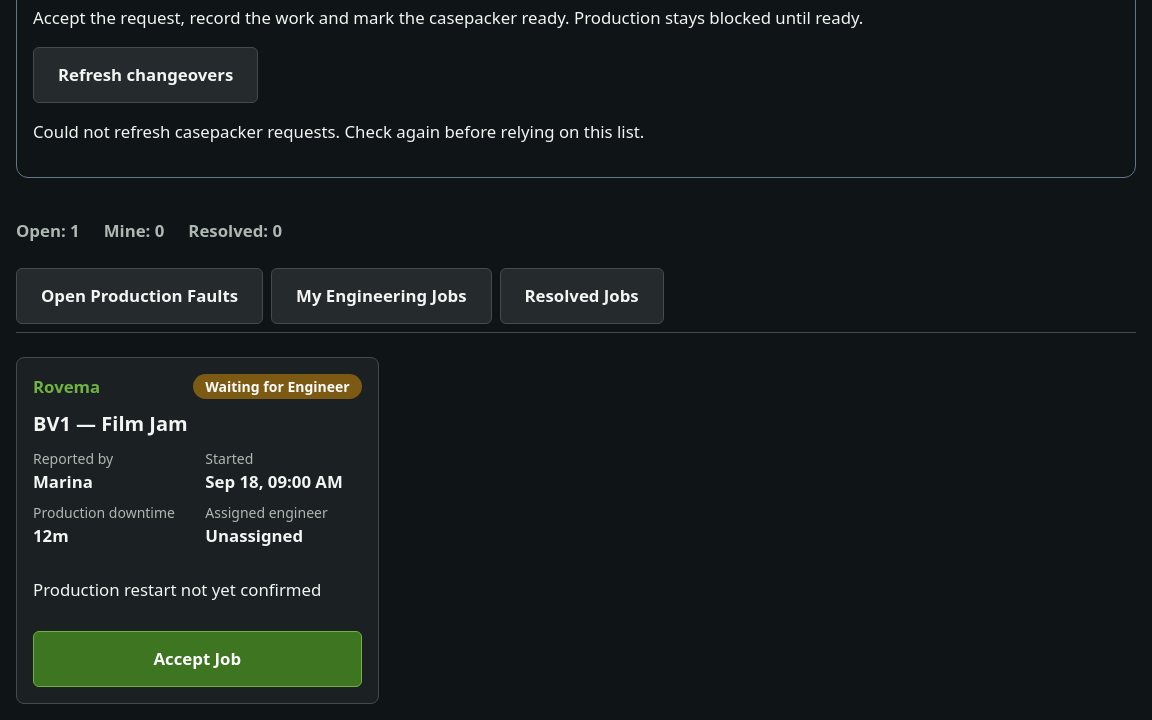
Engineering fault actions › shows a clear conflict message when another engineer accepted first
The width and height of the screenshot is (1152, 720).
(page scrolled)
Expected: the heading "BV1 — Film Jam" is shown, x1=33 y1=410 x2=188 y2=437
Click the button "Accept Job". click: coordinates (197, 659)
box: x1=33 y1=631 x2=362 y2=687
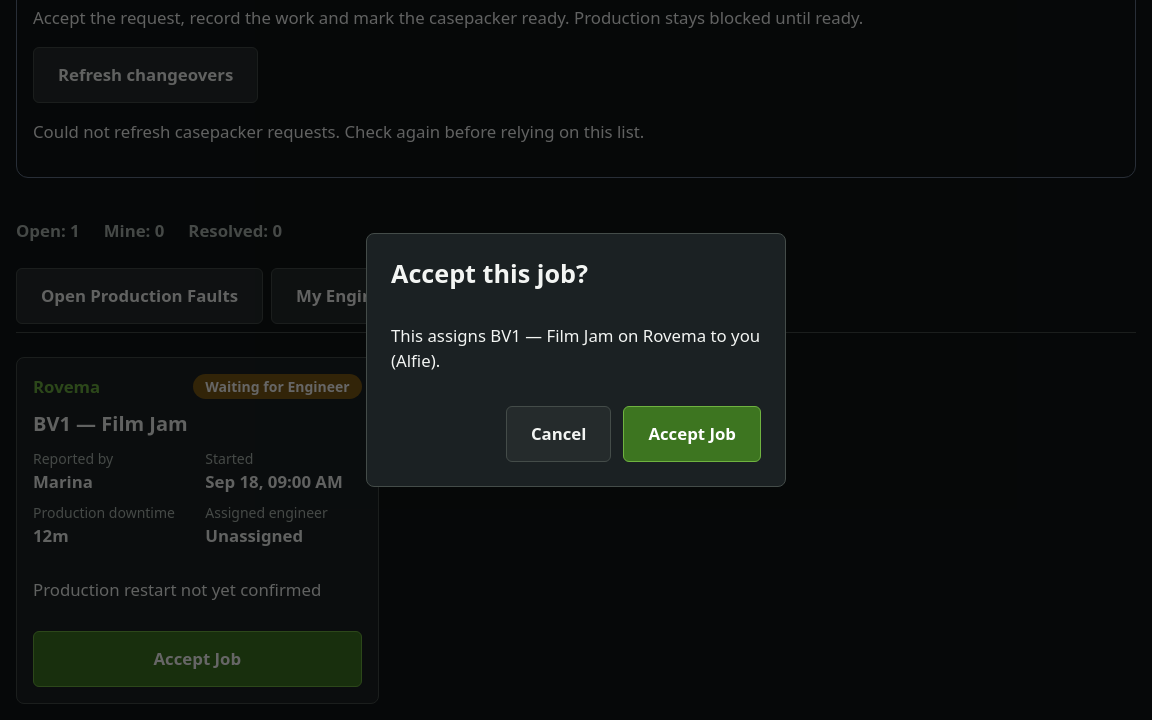
Click the button "Accept Job". click: coordinates (692, 434)
box: x1=623 y1=406 x2=761 y2=462
(page scrolled)
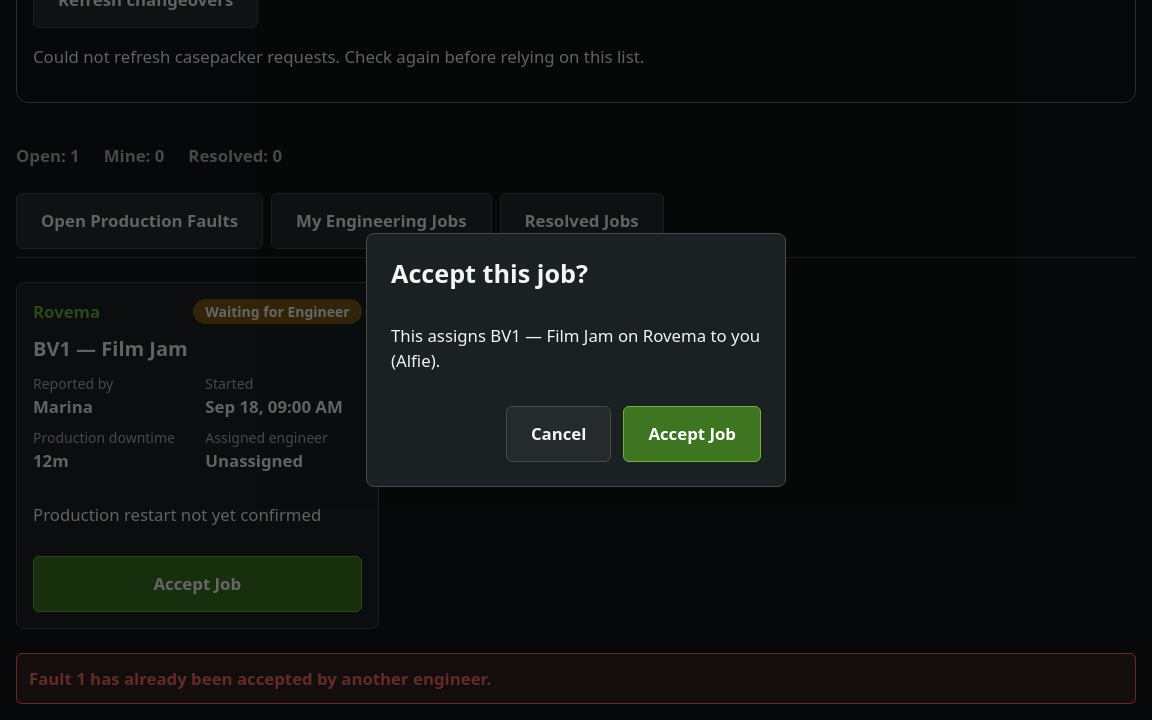
Now the text "Fault 1 has already been accepted by another engineer." is shown, box x1=16 y1=653 x2=1136 y2=704
